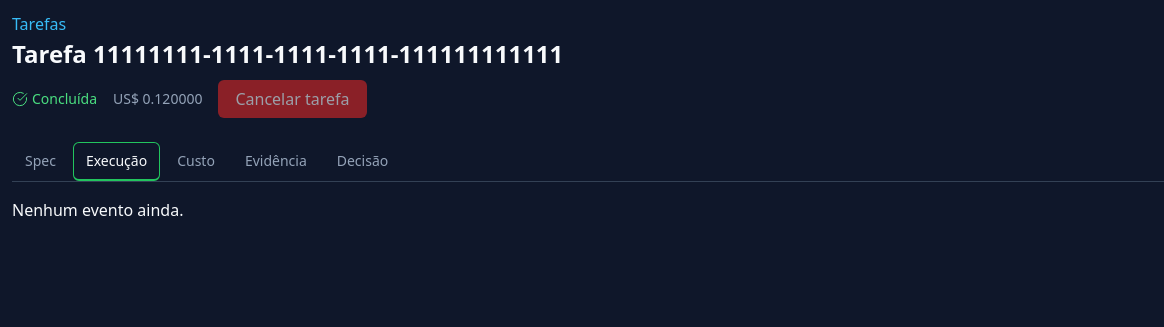
Test case: TaskDetail › loads the Evidência tab from /evidence and marks what it shows as Verificado
The image size is (1164, 327).
Expected: the text "Concluída" is shown, [12,89,97,109]
Click the tab "Evidência": click(276, 162) [232,142,320,181]
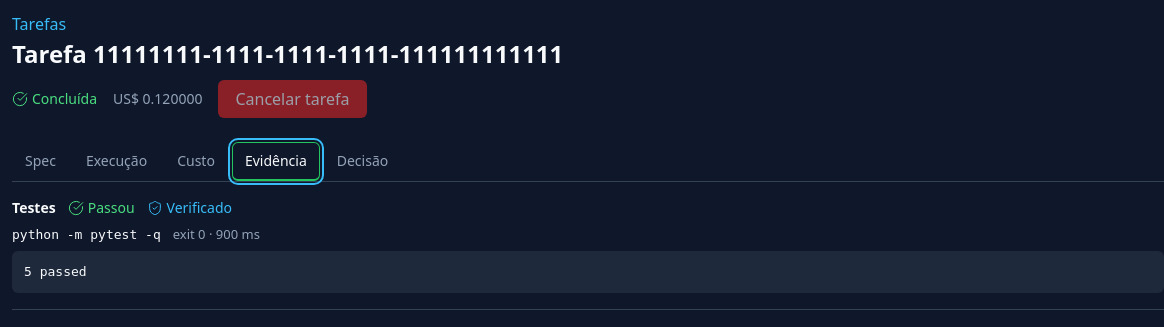
Expected: the text "5 passed" is shown, [12,251,1163,293]
Expected: the text "Verificado" is shown, [146,198,232,218]
Expected: the text "Passou" is shown, [68,198,135,218]
